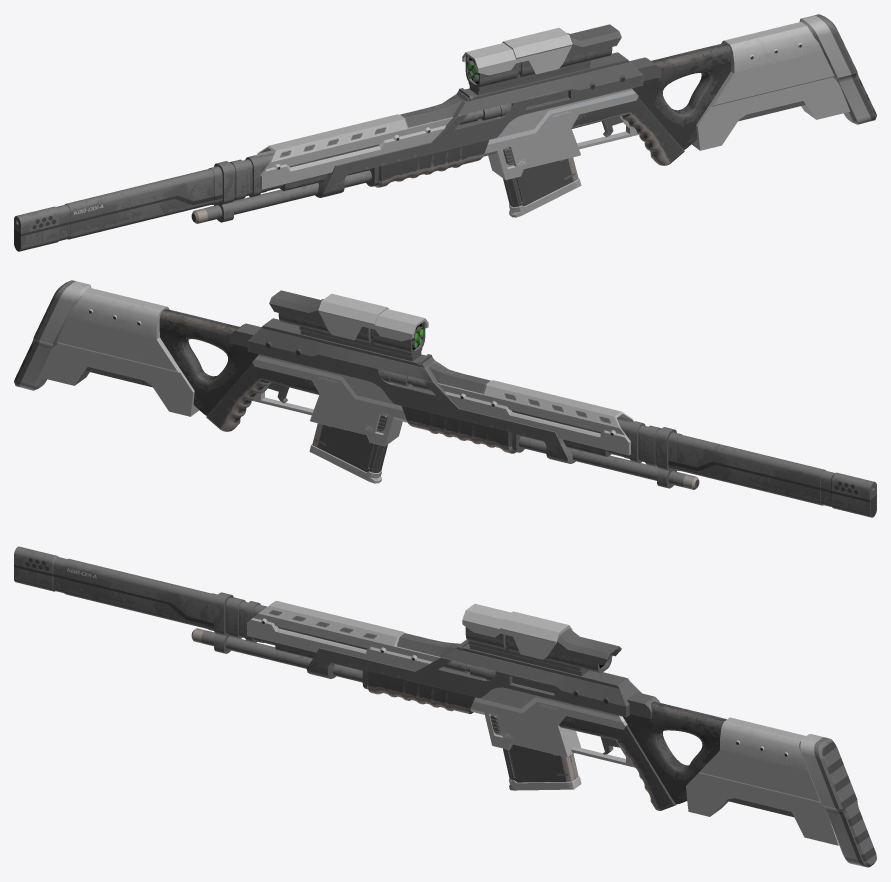
Rendered from quaternius-scifiessentialskit--gun_sniper.glb.
3 views of the same model, one above another, from view 1: azimuth 30°, elevation 25°; view 2: azimuth 150°, elevation 25°; view 3: azimuth 330°, elevation 25° (orthographic).
Visible parts, largest first — view 1: Gun_Sniper; view 2: Gun_Sniper; view 3: Gun_Sniper.
Part boxes in pixels (bbox=[...]): Gun_Sniper: bbox=[14, 14, 876, 251]; Gun_Sniper: bbox=[14, 280, 876, 517]; Gun_Sniper: bbox=[14, 546, 876, 867].
Size of the model in its own units: 1.72 by 0.3299 by 0.0592.
Materials: 1 (1 with a texture image).
